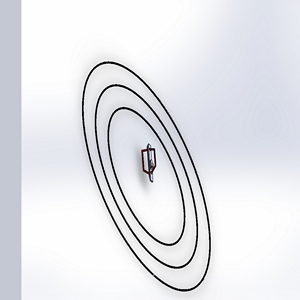circle: (70, 54, 220, 296)
submarine: (134, 139, 165, 190)
